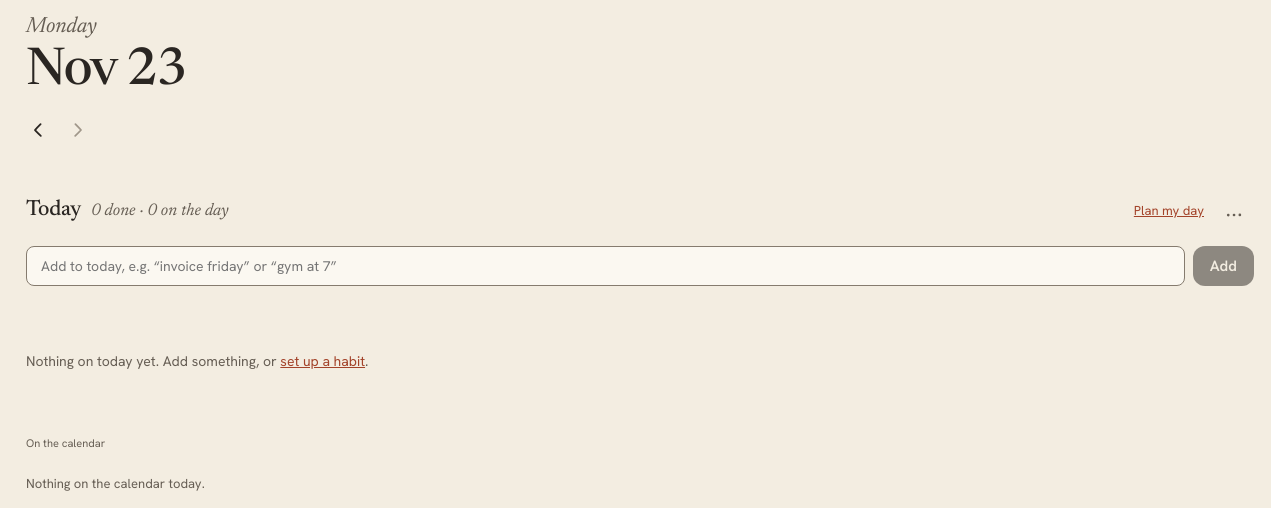
it: <TodayView> the day picker › READS a past day and never opens one
Step 1. Click the button named "Previous day" → (38, 130), box [18,110,58,150]
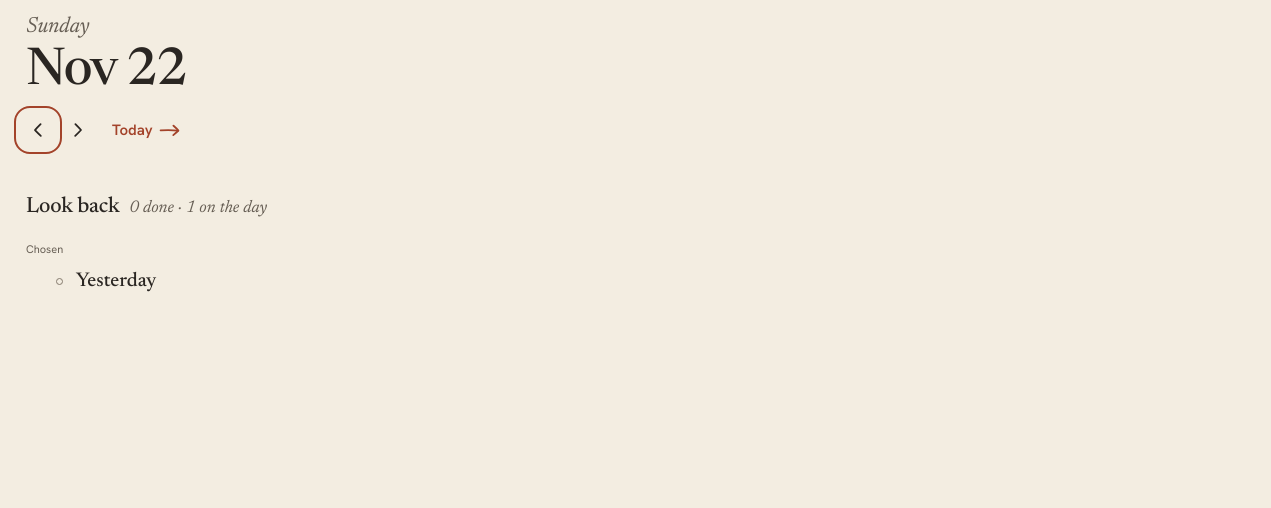
Expected: the text "Yesterday" is shown, [76,270,156,290]
